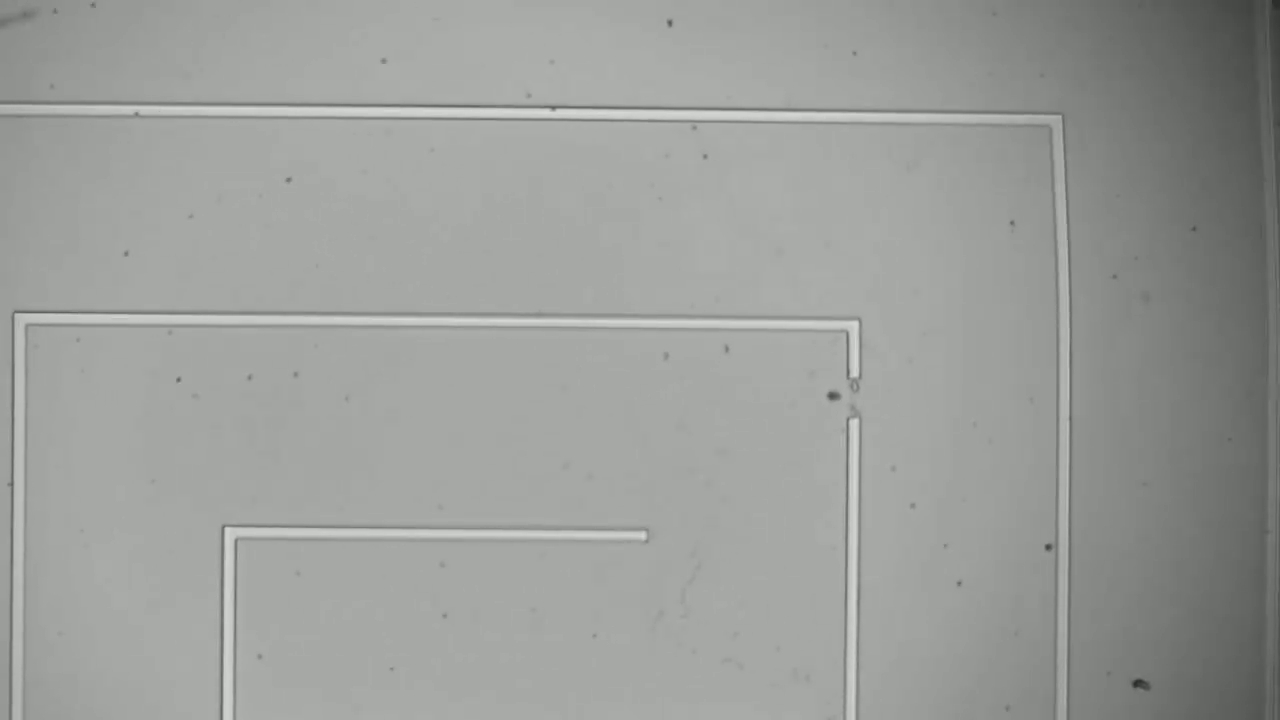open: (837, 357, 876, 449)
